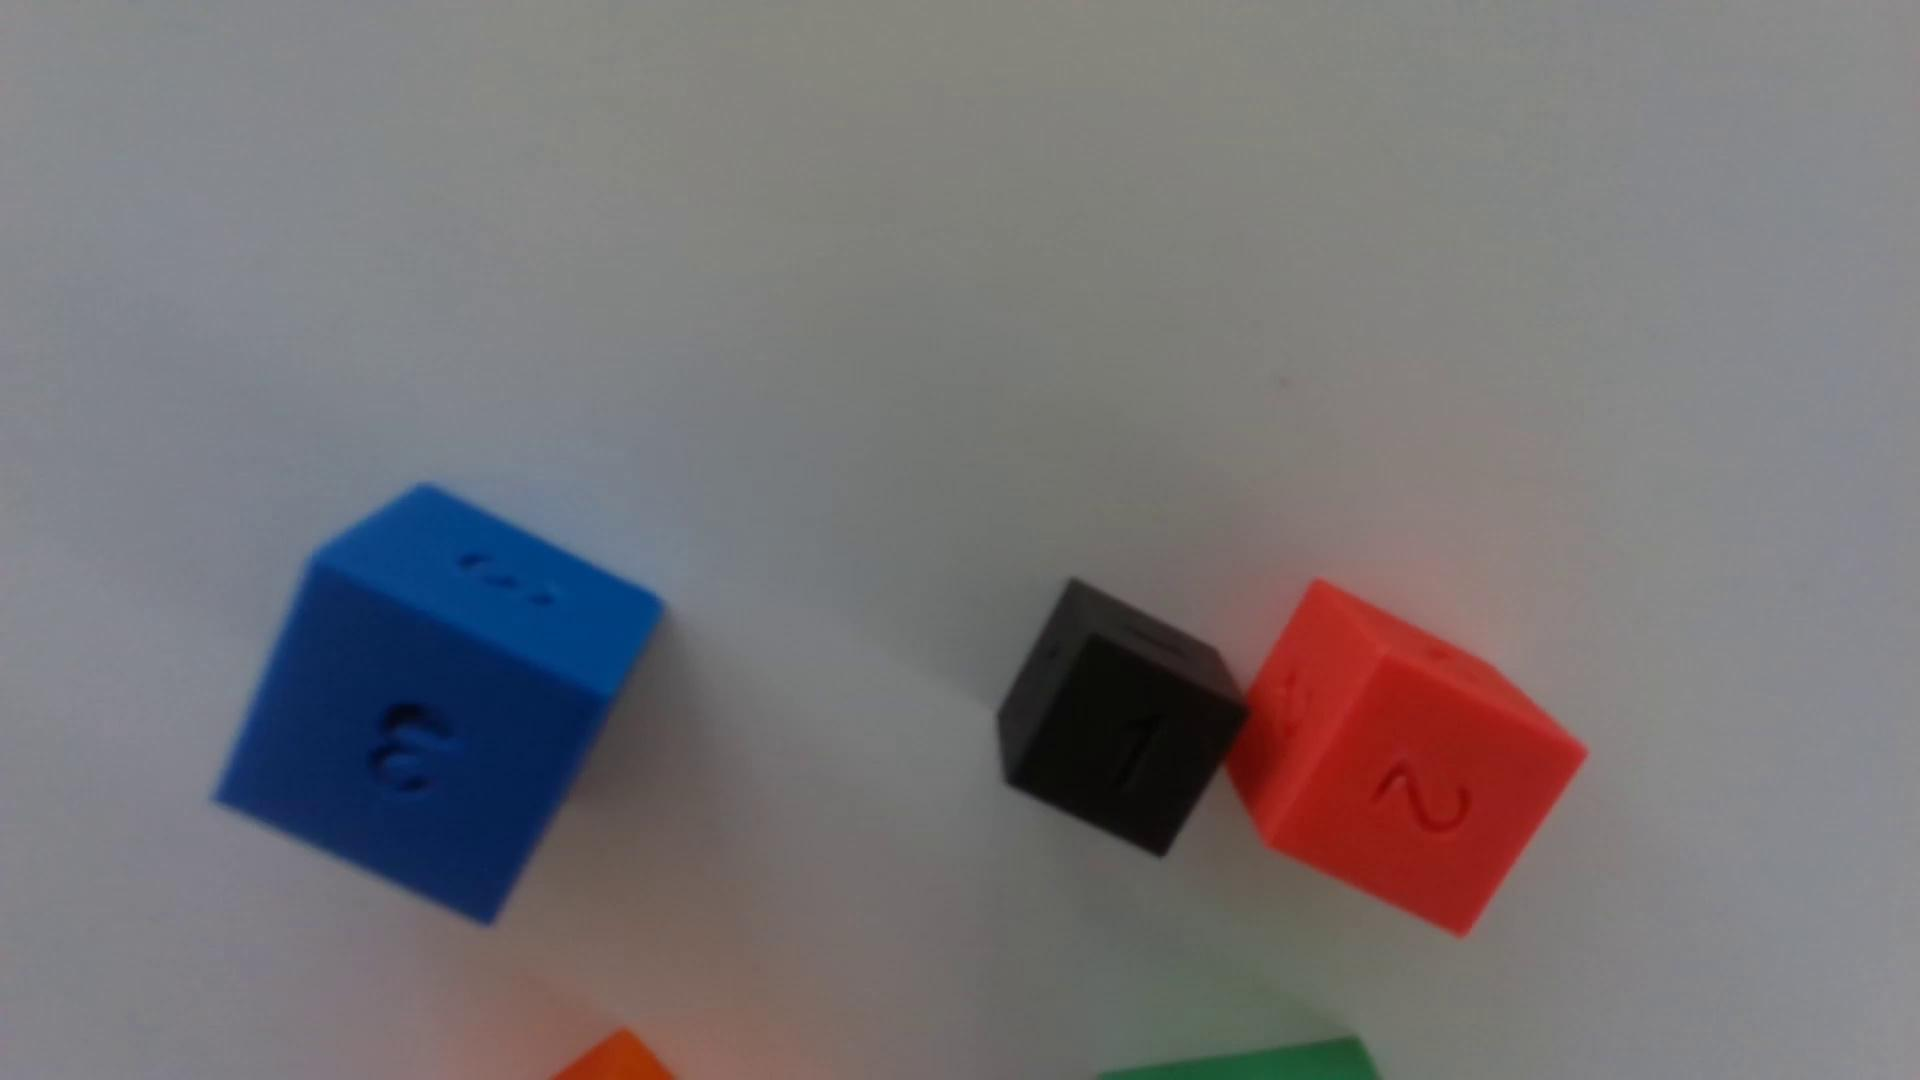black: (996, 579, 1247, 858)
blue: (216, 487, 662, 924)
green: (1102, 1038, 1379, 1080)
orange: (553, 1029, 674, 1080)
red: (1226, 582, 1585, 936)
